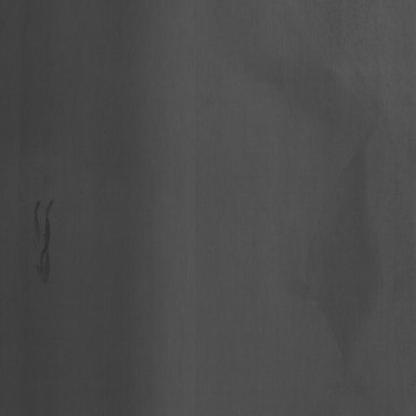water_spot: (26, 182, 58, 298)
